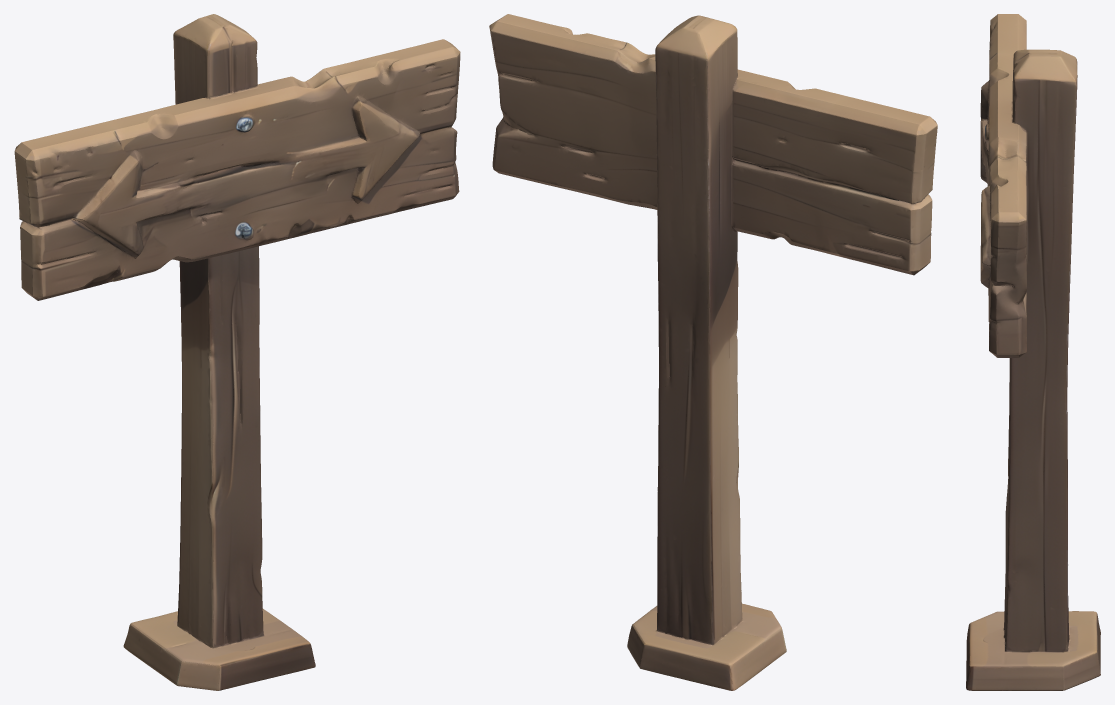
File: base_basic_pbr.fbx
The picture shows the model from 3 angles, left to right: view 1: azimuth 30°, elevation 25°; view 2: azimuth 150°, elevation 25°; view 3: azimuth 270°, elevation 25°; orthographic projection. The views are drawn at different scales.
Parts seen in each view (by area): view 1: model; view 2: model; view 3: model.
Part boxes in pixels (x1,y1,x2,y2): model: (14,14,460,690); model: (489,14,937,690); model: (966,14,1100,690).
Bounding box in the file's own units: 137 × 190 × 37.86.
1 material, 1 textured.
